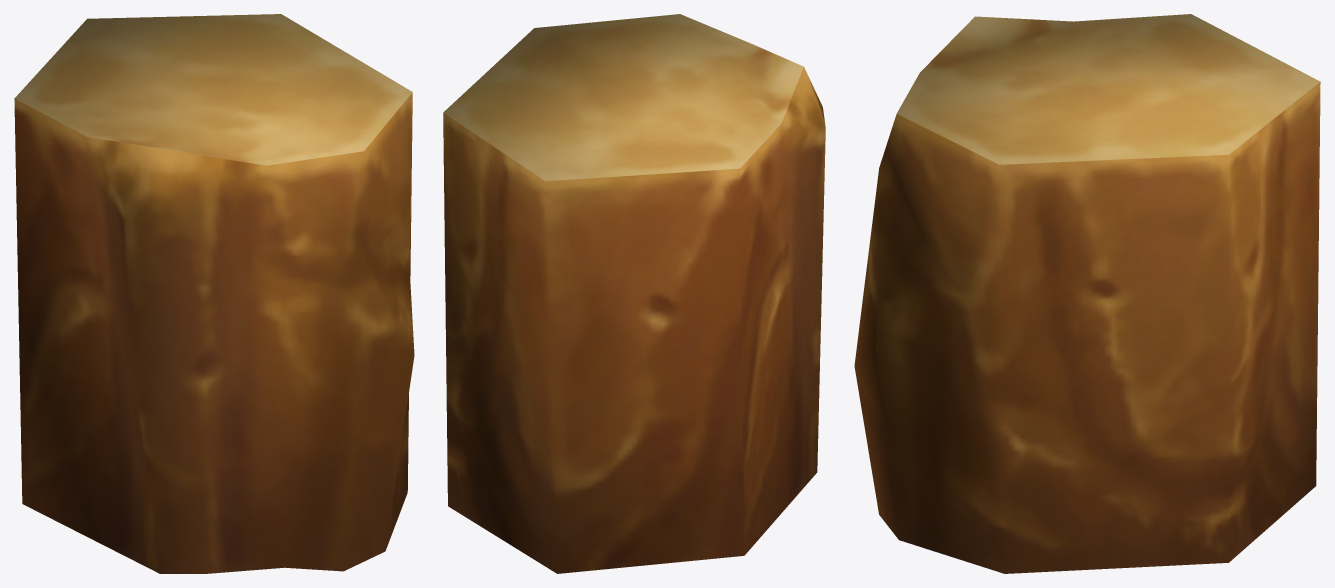
File: Stage_ShaMo_ShanShi11.FBX
The picture shows the model from 3 angles, left to right: view 1: azimuth 30°, elevation 25°; view 2: azimuth 150°, elevation 25°; view 3: azimuth 270°, elevation 25°; orthographic projection. The views are drawn at different scales.
Parts seen in each view (by area): view 1: Stage_ShaMo_ShanShi11; view 2: Stage_ShaMo_ShanShi11; view 3: Stage_ShaMo_ShanShi11.
Part boxes in pixels (x1,y1,x2,y2): Stage_ShaMo_ShanShi11: [14, 14, 414, 573]; Stage_ShaMo_ShanShi11: [443, 14, 825, 573]; Stage_ShaMo_ShanShi11: [854, 14, 1320, 573].
Bounding box in the file's own units: 281 × 371 × 364.
